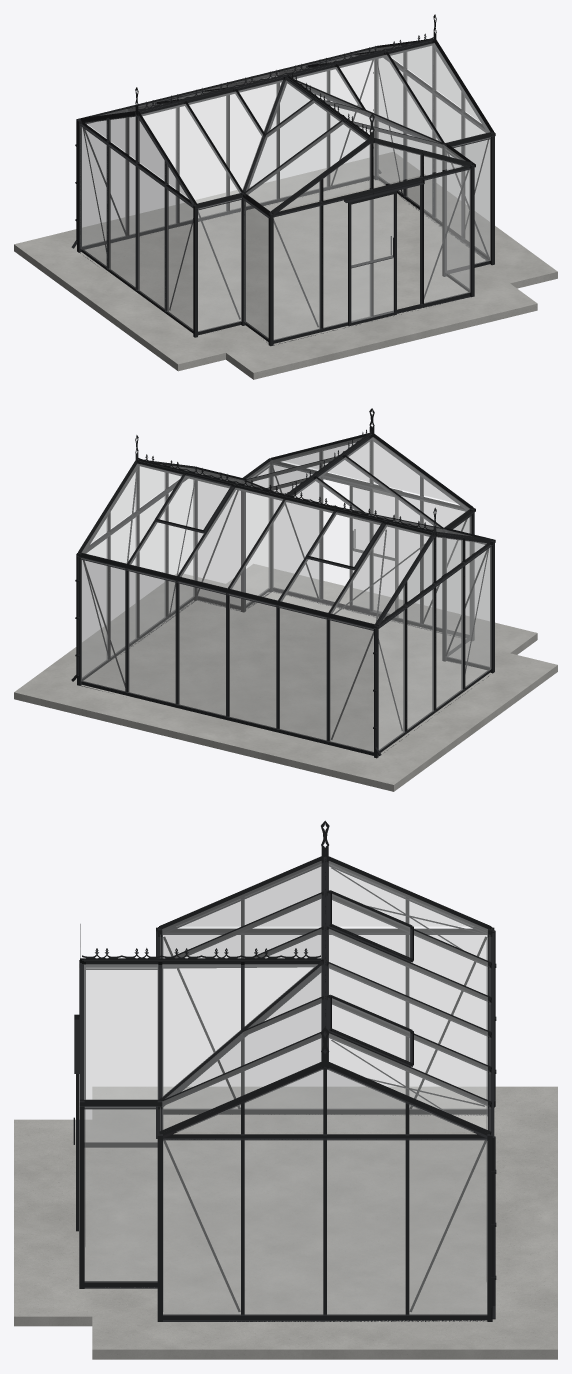
The model's file is sg-t178-decor.glb.
3 renders of one model, top to bottom at view 1: azimuth 30°, elevation 25°; view 2: azimuth 150°, elevation 25°; view 3: azimuth 270°, elevation 25°, orthographic. The views are drawn at different scales.
Parts seen in each view (by area): view 1: scandiglas-t178-decor; view 2: scandiglas-t178-decor; view 3: scandiglas-t178-decor.
Boxes of the visible parts, x1,y1,x2,y2 form: scandiglas-t178-decor: (14,14,557,379); scandiglas-t178-decor: (14,408,557,791); scandiglas-t178-decor: (14,820,557,1359).
Size of the model in its own units: 5.85 by 3.16 by 5.11.
4 materials, 1 textured.
